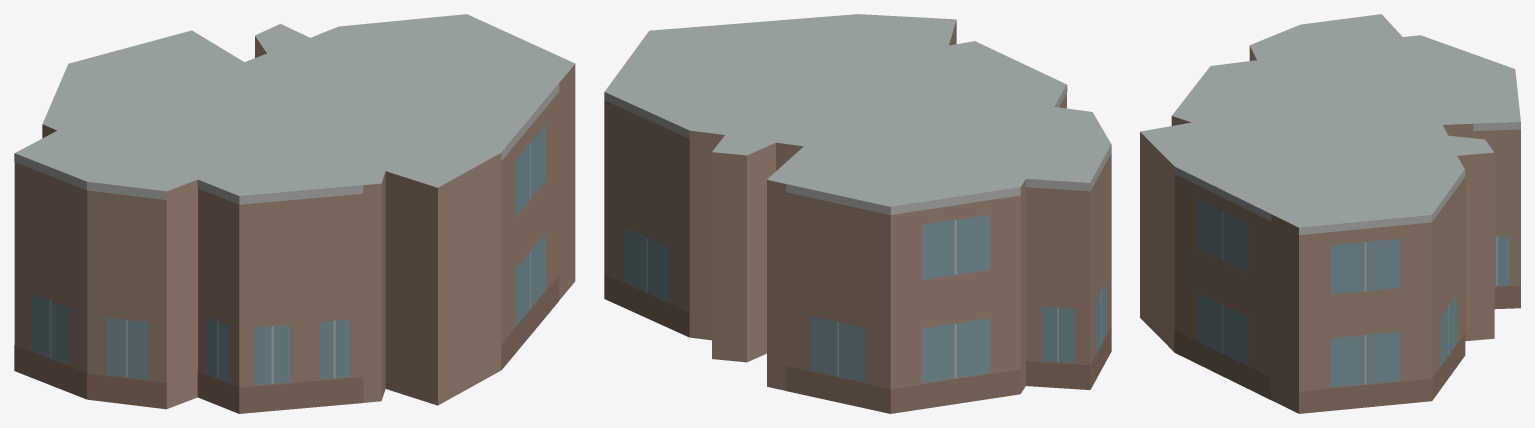
The model's file is survey-upis-32916621.glb.
The picture shows the model from 3 angles, left to right: view 1: azimuth 30°, elevation 25°; view 2: azimuth 150°, elevation 25°; view 3: azimuth 270°, elevation 25°; orthographic projection. The views are drawn at different scales.
Visible parts, largest first — view 1: survey-upis-32916621.tmp; view 2: survey-upis-32916621.tmp; view 3: survey-upis-32916621.tmp.
Part boxes in pixels (x1,y1,x2,y2): survey-upis-32916621.tmp: (14, 14, 575, 413); survey-upis-32916621.tmp: (604, 14, 1111, 413); survey-upis-32916621.tmp: (1140, 14, 1520, 413).
Bounding box in the file's own units: 15.03 × 6.1 × 11.31.
